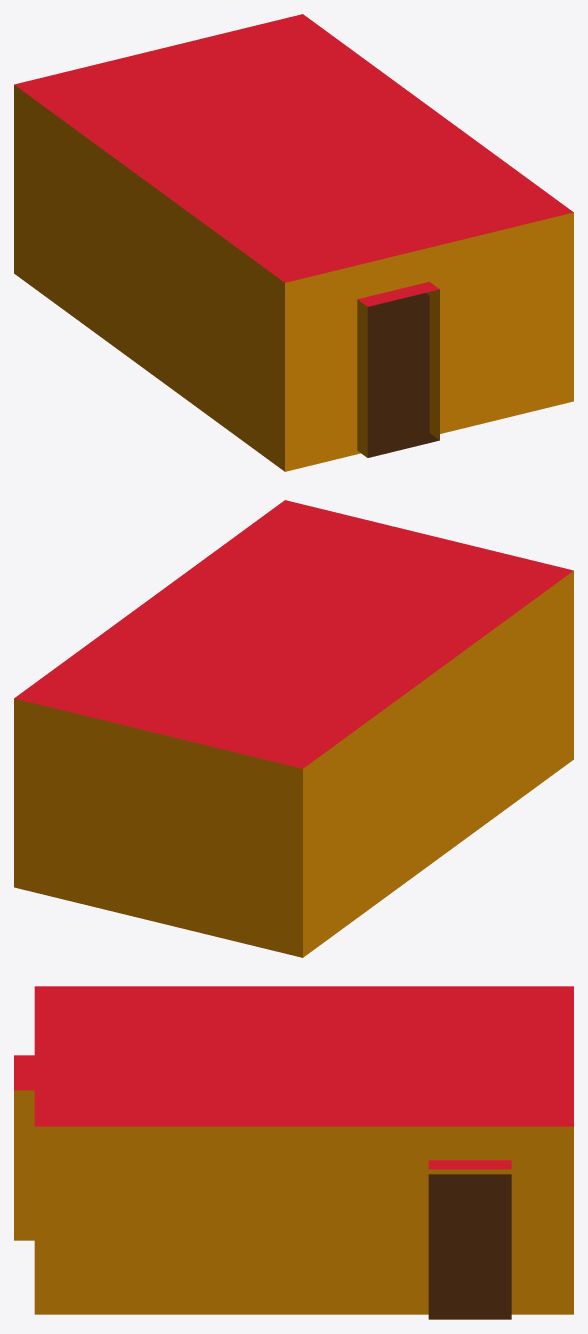
File: Floor1_BedroomJakobMesh.gltf
3 views of the same model, one above another, from view 1: azimuth 30°, elevation 25°; view 2: azimuth 150°, elevation 25°; view 3: azimuth 270°, elevation 25° (orthographic).
Visible parts, largest first — view 1: Floor1_BedroomJakobMesh2; view 2: Floor1_BedroomJakobMesh2; view 3: Floor1_BedroomJakobMesh2.
Boxes of the visible parts, bbox=[...] form: Floor1_BedroomJakobMesh2: bbox=[14, 14, 573, 471]; Floor1_BedroomJakobMesh2: bbox=[14, 500, 573, 957]; Floor1_BedroomJakobMesh2: bbox=[14, 986, 573, 1319].
Bounding box in the file's own units: 8.5 × 5 × 13.5.
